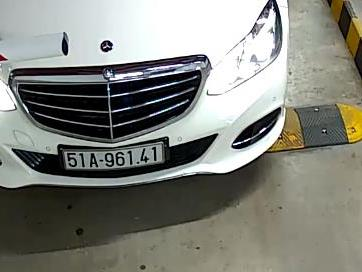number: (60, 142, 165, 169)
